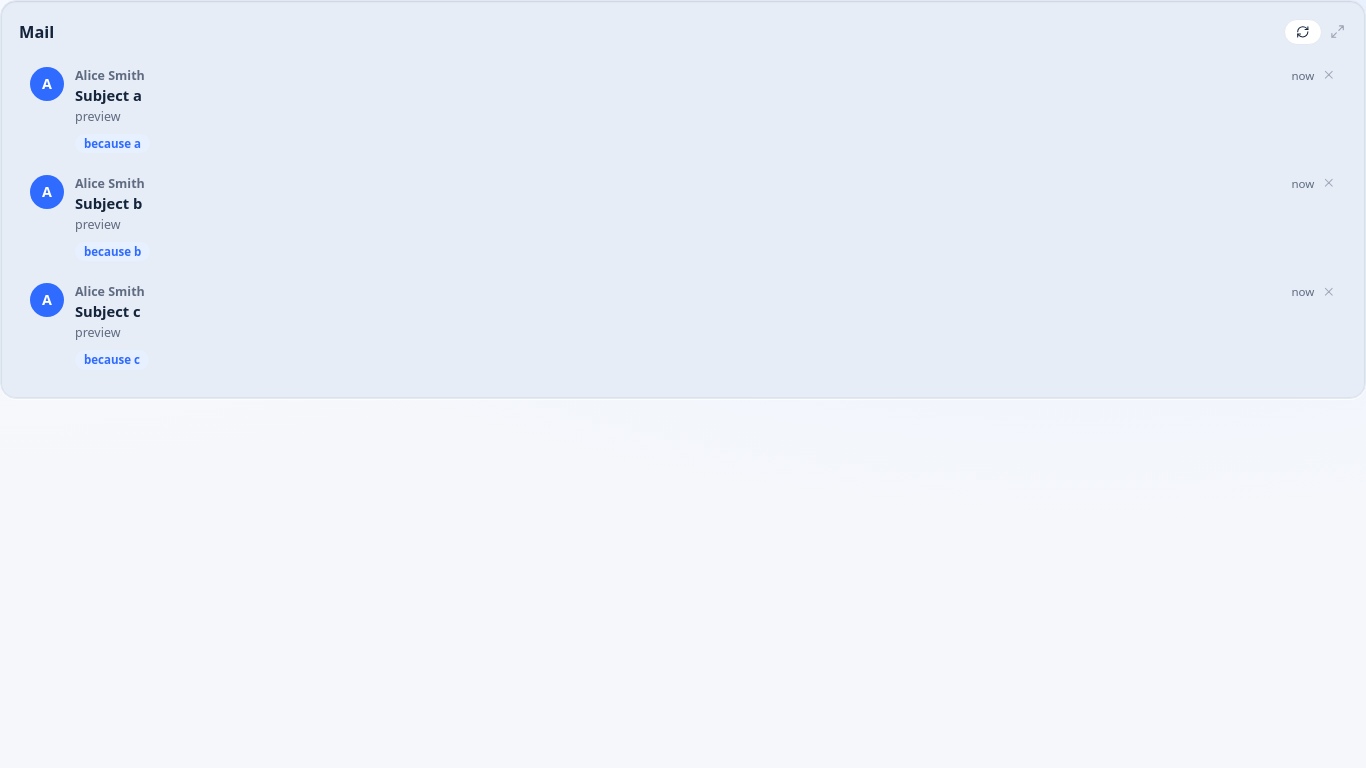
Test: MailWidget ranked picks › leaves the card at three once the full-screen view is closed again
The image size is (1366, 768).
Expected: the link "Subject a" is shown, [75,85,142,105]
What coordinates should you click on to do the following:
click the button named "Show Mail full screen"
I would click on:
 (1337, 32)
Its box is [1328,22,1347,42].
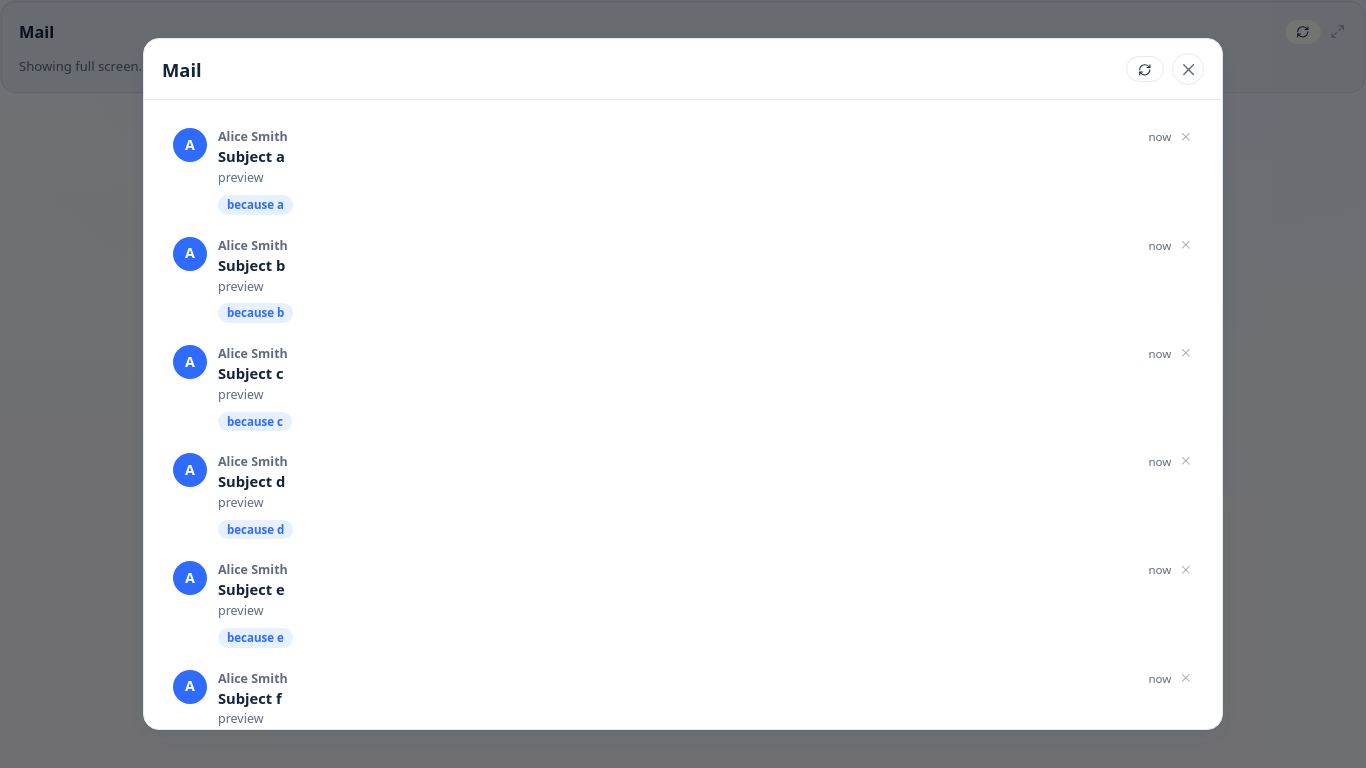
Result: the dialog is shown
What coordinates should you click on to do the following:
click the button named "Close Mail"
I would click on:
 (1188, 69)
Its box is [1172,53,1204,85].
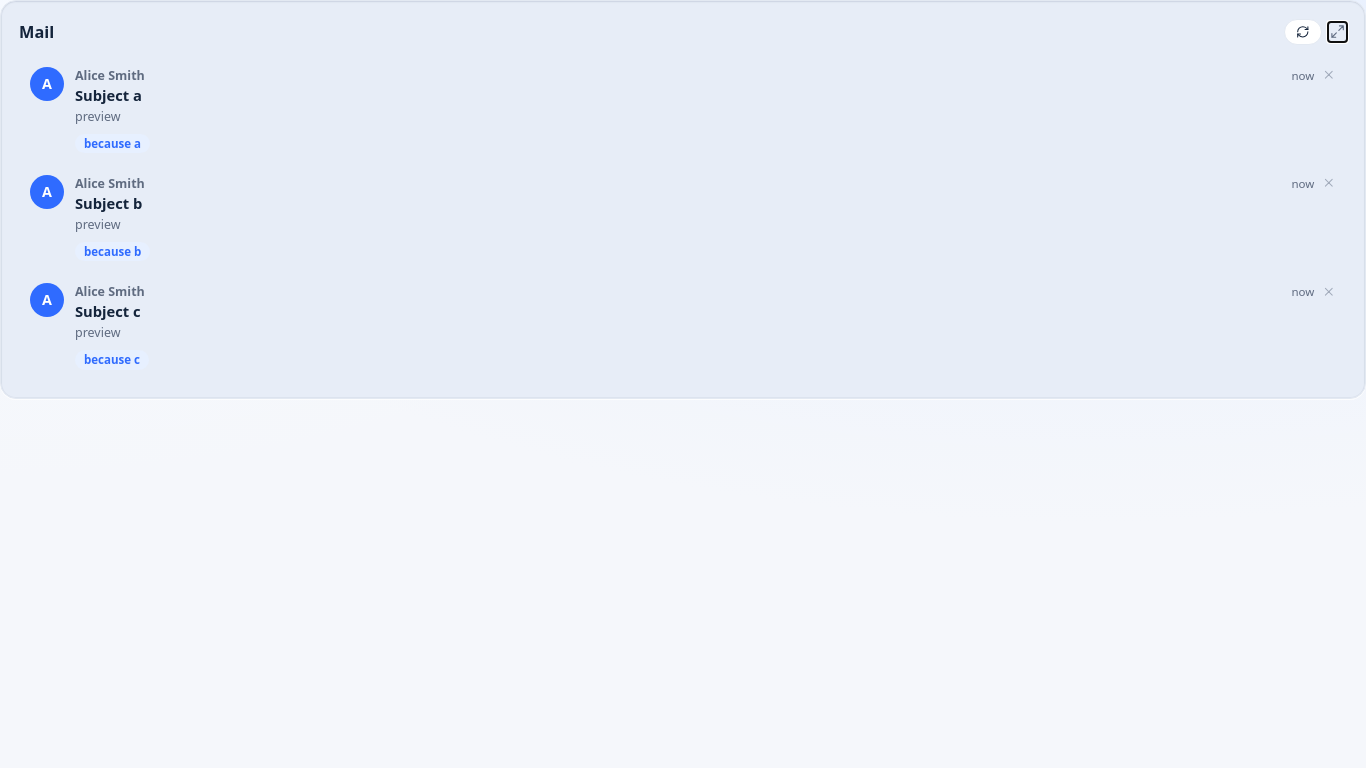
Expected: the link "Subject c" is shown, [75,301,141,321]
Result: the link "Subject d" is gone
